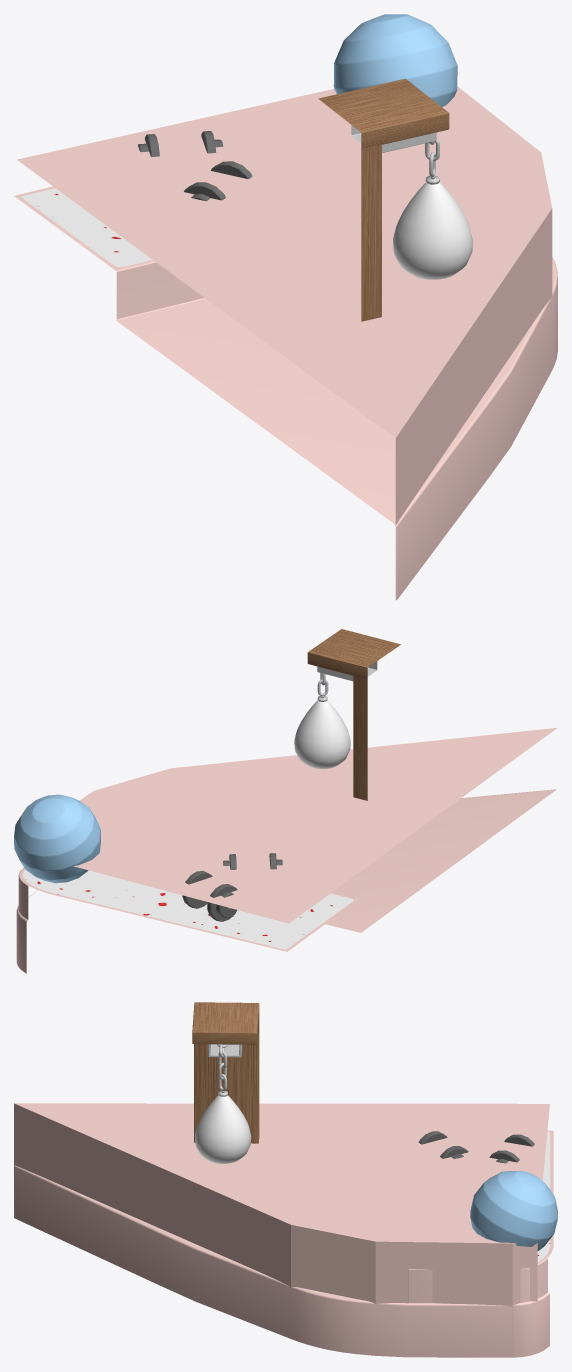
Rendered from coach-transformed.glb.
3 renders of one model, top to bottom at view 1: azimuth 30°, elevation 25°; view 2: azimuth 150°, elevation 25°; view 3: azimuth 270°, elevation 25°, orthographic. The views are drawn at different scales.
Visible parts, largest first — view 1: coachIntersection, coachBase, coachPunchingStructure, coachBall, coachPunchingBagBall, coachMat, coachWeightsDiscs; view 2: coachIntersection, coachBase, coachMat, coachBall, coachPunchingStructure, coachPunchingBagBall, coachWeightsDiscs; view 3: coachIntersection, coachBase, coachPunchingStructure, coachBall, coachPunchingBagBall, coachWeightsDiscs, coachMat.
Boxes of the visible parts, x1=… form: coachIntersection: x1=17, y1=86, x2=552, y2=525; coachBase: x1=14, y1=186, x2=557, y2=600; coachPunchingStructure: x1=318, y1=78, x2=449, y2=321; coachBall: x1=333, y1=14, x2=457, y2=106; coachPunchingBagBall: x1=393, y1=182, x2=472, y2=279; coachMat: x1=21, y1=188, x2=152, y2=267; coachWeightsDiscs: x1=138, y1=131, x2=252, y2=201; coachIntersection: x1=73, y1=727, x2=557, y2=923; coachBase: x1=16, y1=789, x2=556, y2=973; coachMat: x1=22, y1=870, x2=353, y2=949; coachBall: x1=14, y1=794, x2=100, y2=883; coachPunchingStructure: x1=307, y1=629, x2=400, y2=800; coachPunchingBagBall: x1=294, y1=700, x2=350, y2=768; coachWeightsDiscs: x1=182, y1=853, x2=282, y2=921; coachIntersection: x1=14, y1=1103, x2=549, y2=1357; coachBase: x1=14, y1=1130, x2=553, y2=1357; coachPunchingStructure: x1=192, y1=1002, x2=259, y2=1143; coachBall: x1=470, y1=1171, x2=557, y2=1250; coachPunchingBagBall: x1=195, y1=1095, x2=251, y2=1163; coachWeightsDiscs: x1=418, y1=1131, x2=534, y2=1163; coachMat: x1=537, y1=1132, x2=550, y2=1261.
Size of the model in its own units: 53.23 by 43.72 by 87.06.
Materials: 11 (2 with a texture image).
